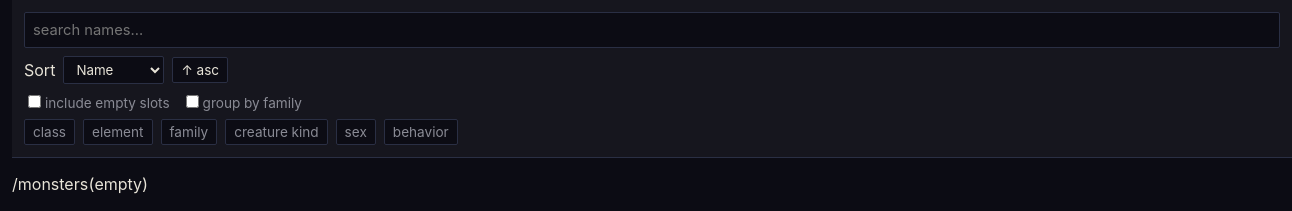
Test: MonsterFilters › typing into search updates the URL
In the search field with placeholder "search names…": x=652, y=30 [24,12,1280,48], type "rat"
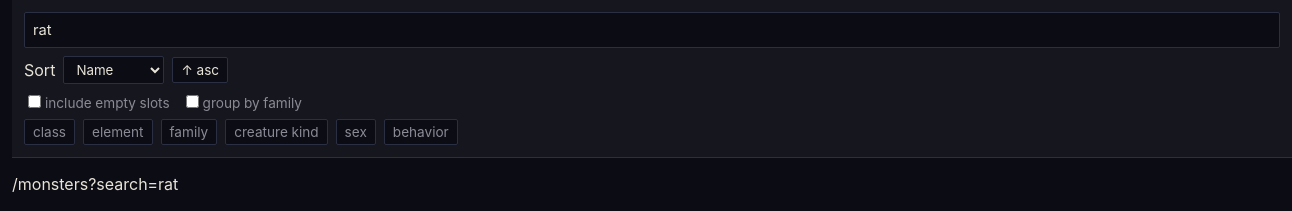
Expected: the text with test id "location" shows "search=rat", [88,174,178,194]
